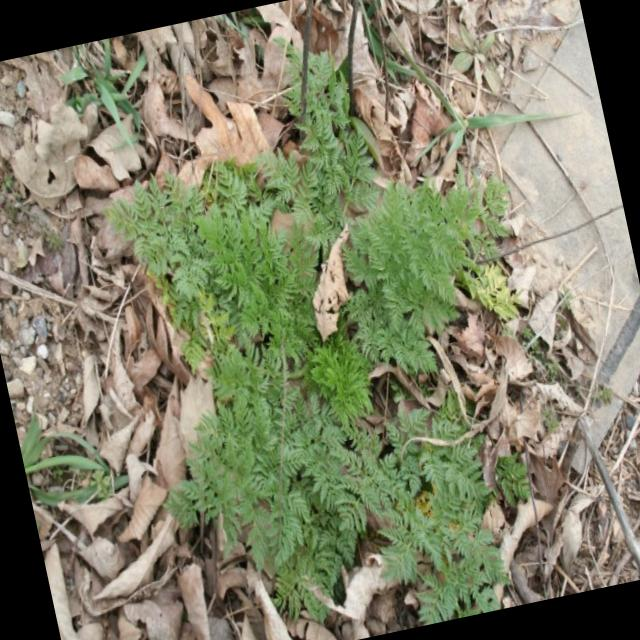Poisonous-Hemlock: (128, 127, 589, 640)
